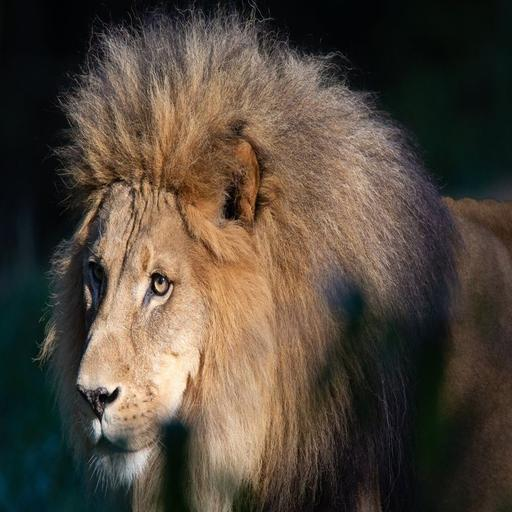Lion: (29, 0, 512, 510)
